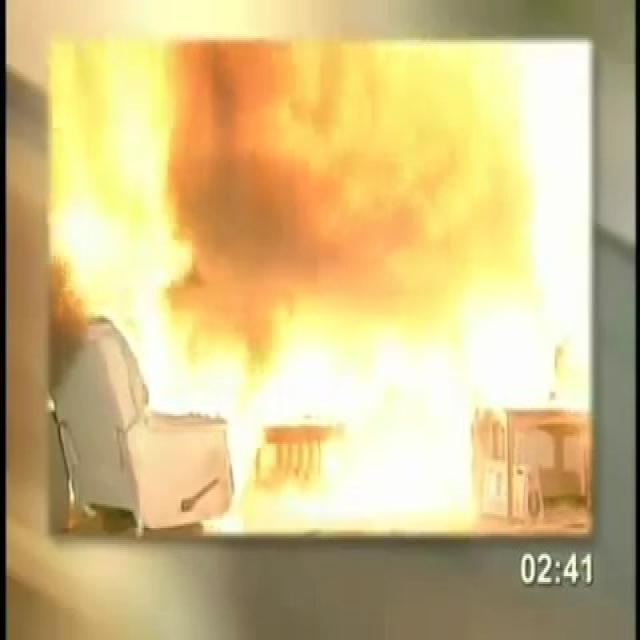Fire: (48, 48, 590, 416)
